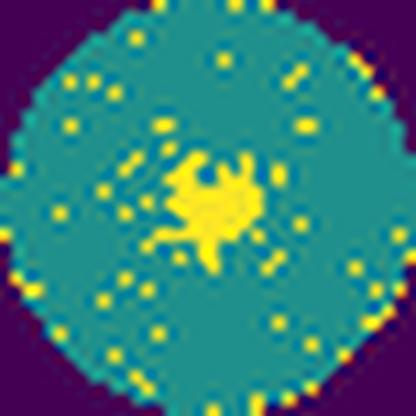Center: (164, 149, 266, 268)
